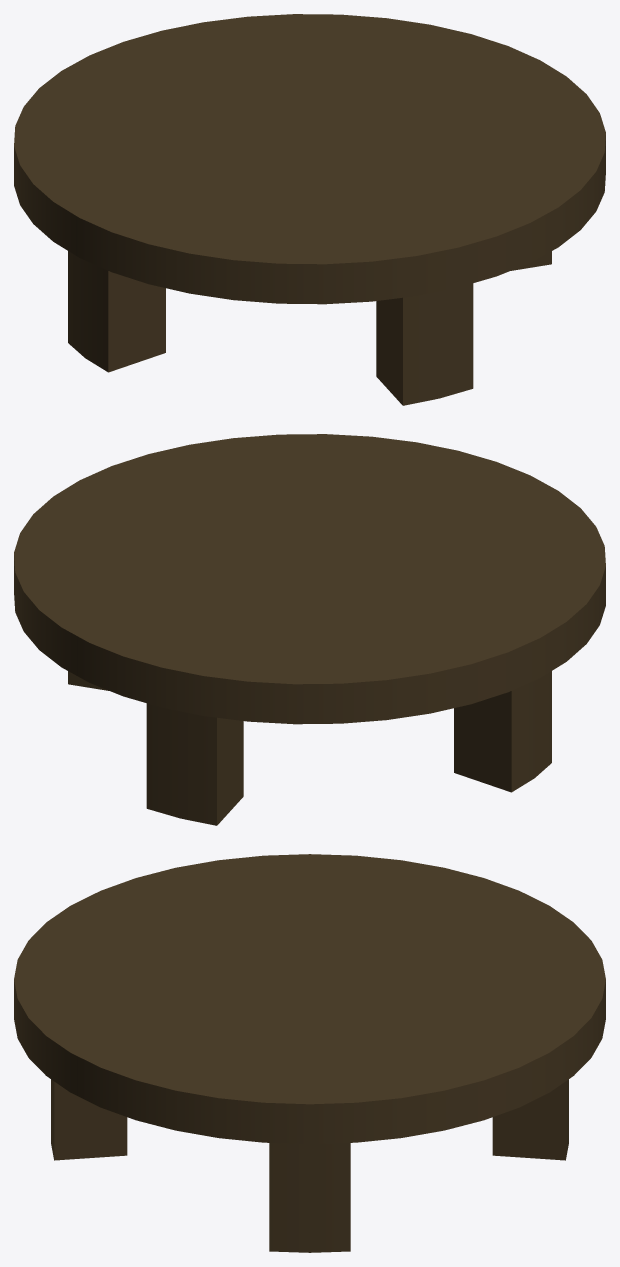
The model's file is tyabudai.fbx.
3 views of the same model, one above another, from view 1: azimuth 30°, elevation 25°; view 2: azimuth 150°, elevation 25°; view 3: azimuth 270°, elevation 25° (orthographic).
Visible parts, largest first — view 1: pCylinder1; view 2: pCylinder1; view 3: pCylinder1.
Boxes of the visible parts, left/top/right/bottom form: pCylinder1: left=14, top=14, right=605, bottom=405; pCylinder1: left=14, top=434, right=605, bottom=825; pCylinder1: left=14, top=854, right=605, bottom=1252.
Size of the model in its own units: 5.98 by 1.83 by 5.98.
